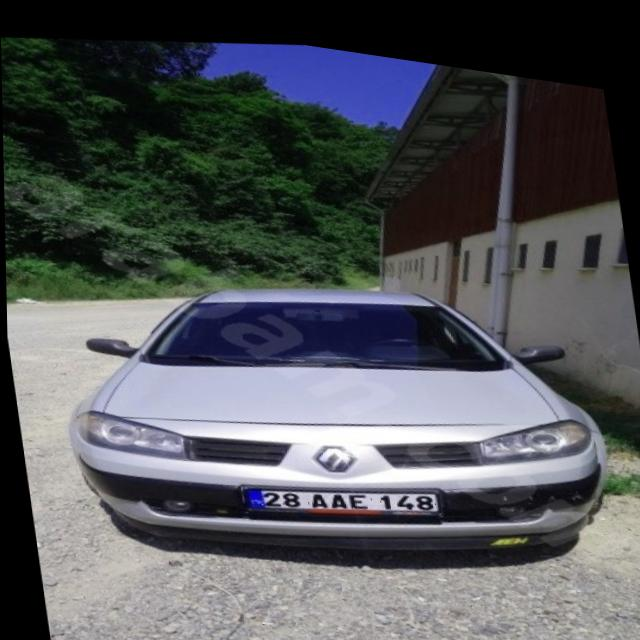license_plate: (239, 457, 440, 523)
